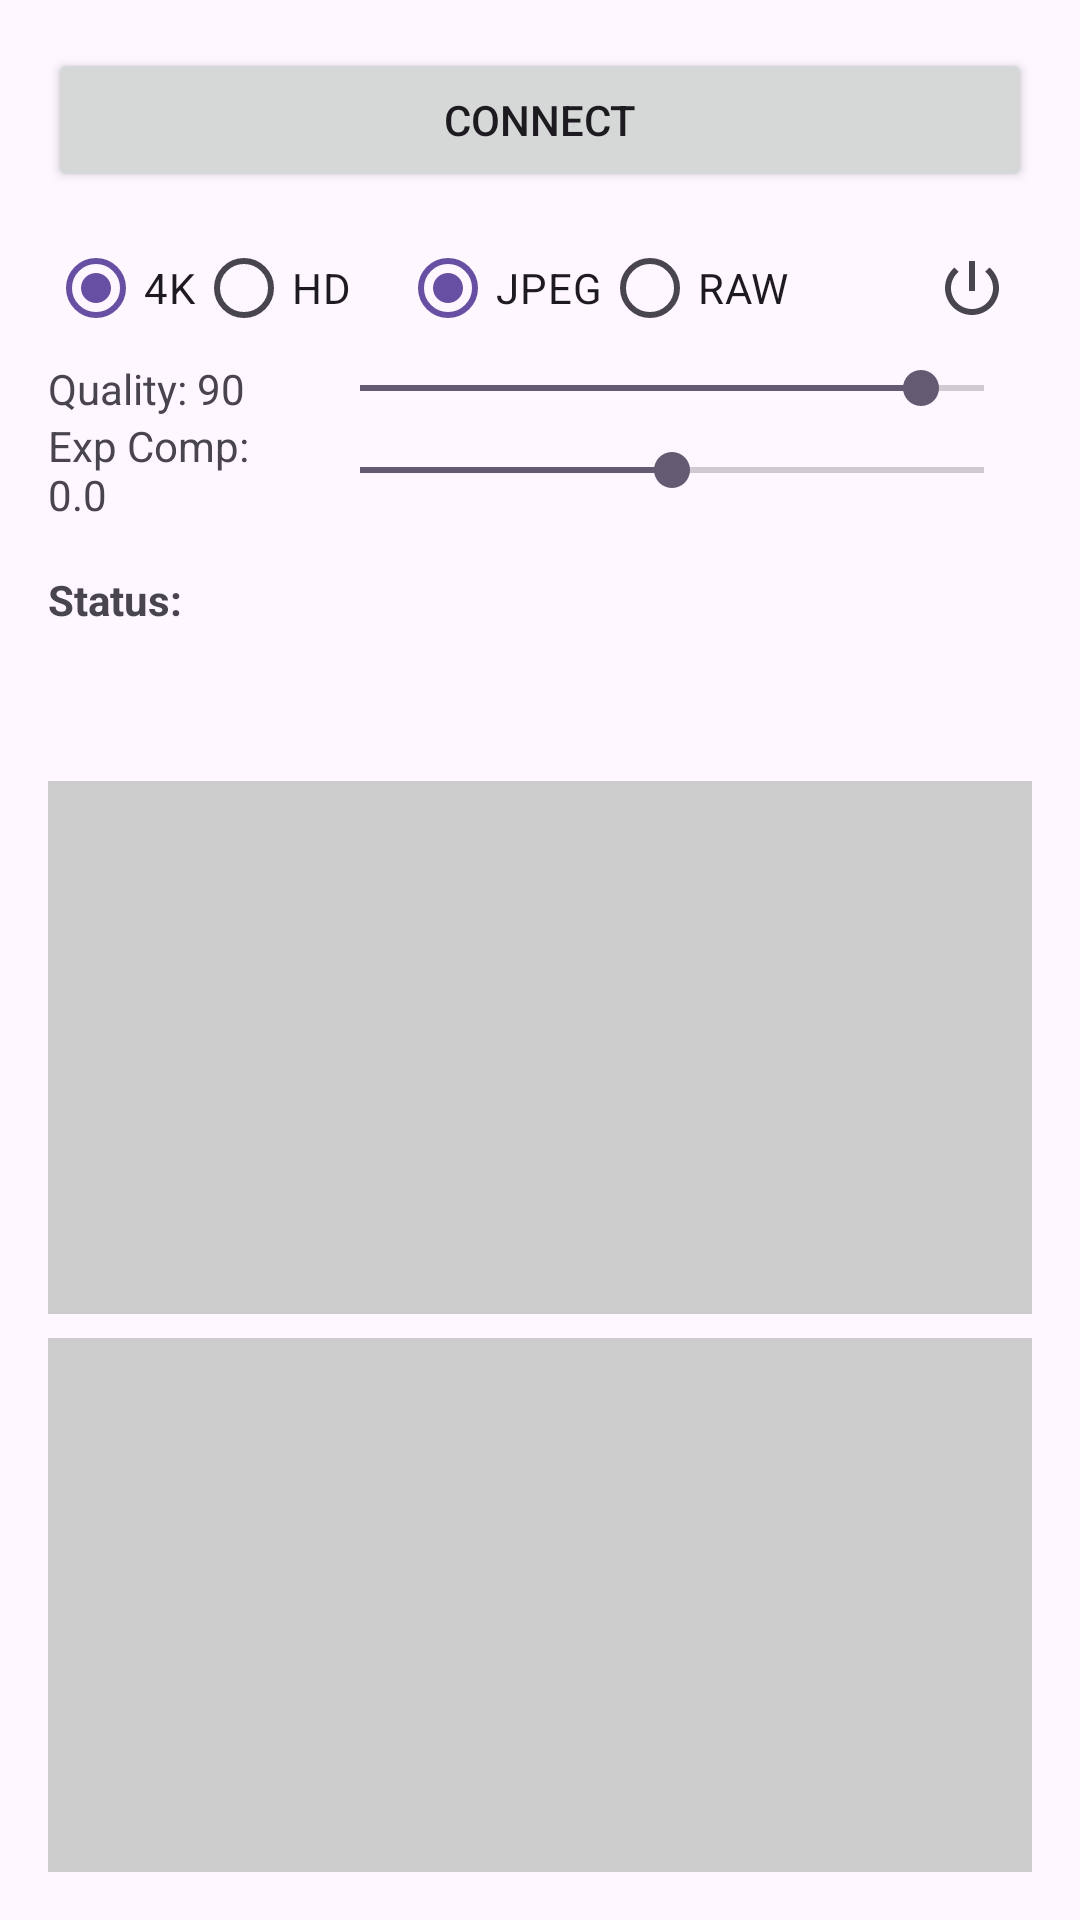

Icon click points for this 1080*1920 phone screenshot, format [x,y]:
Power Off Server: [972,288]
